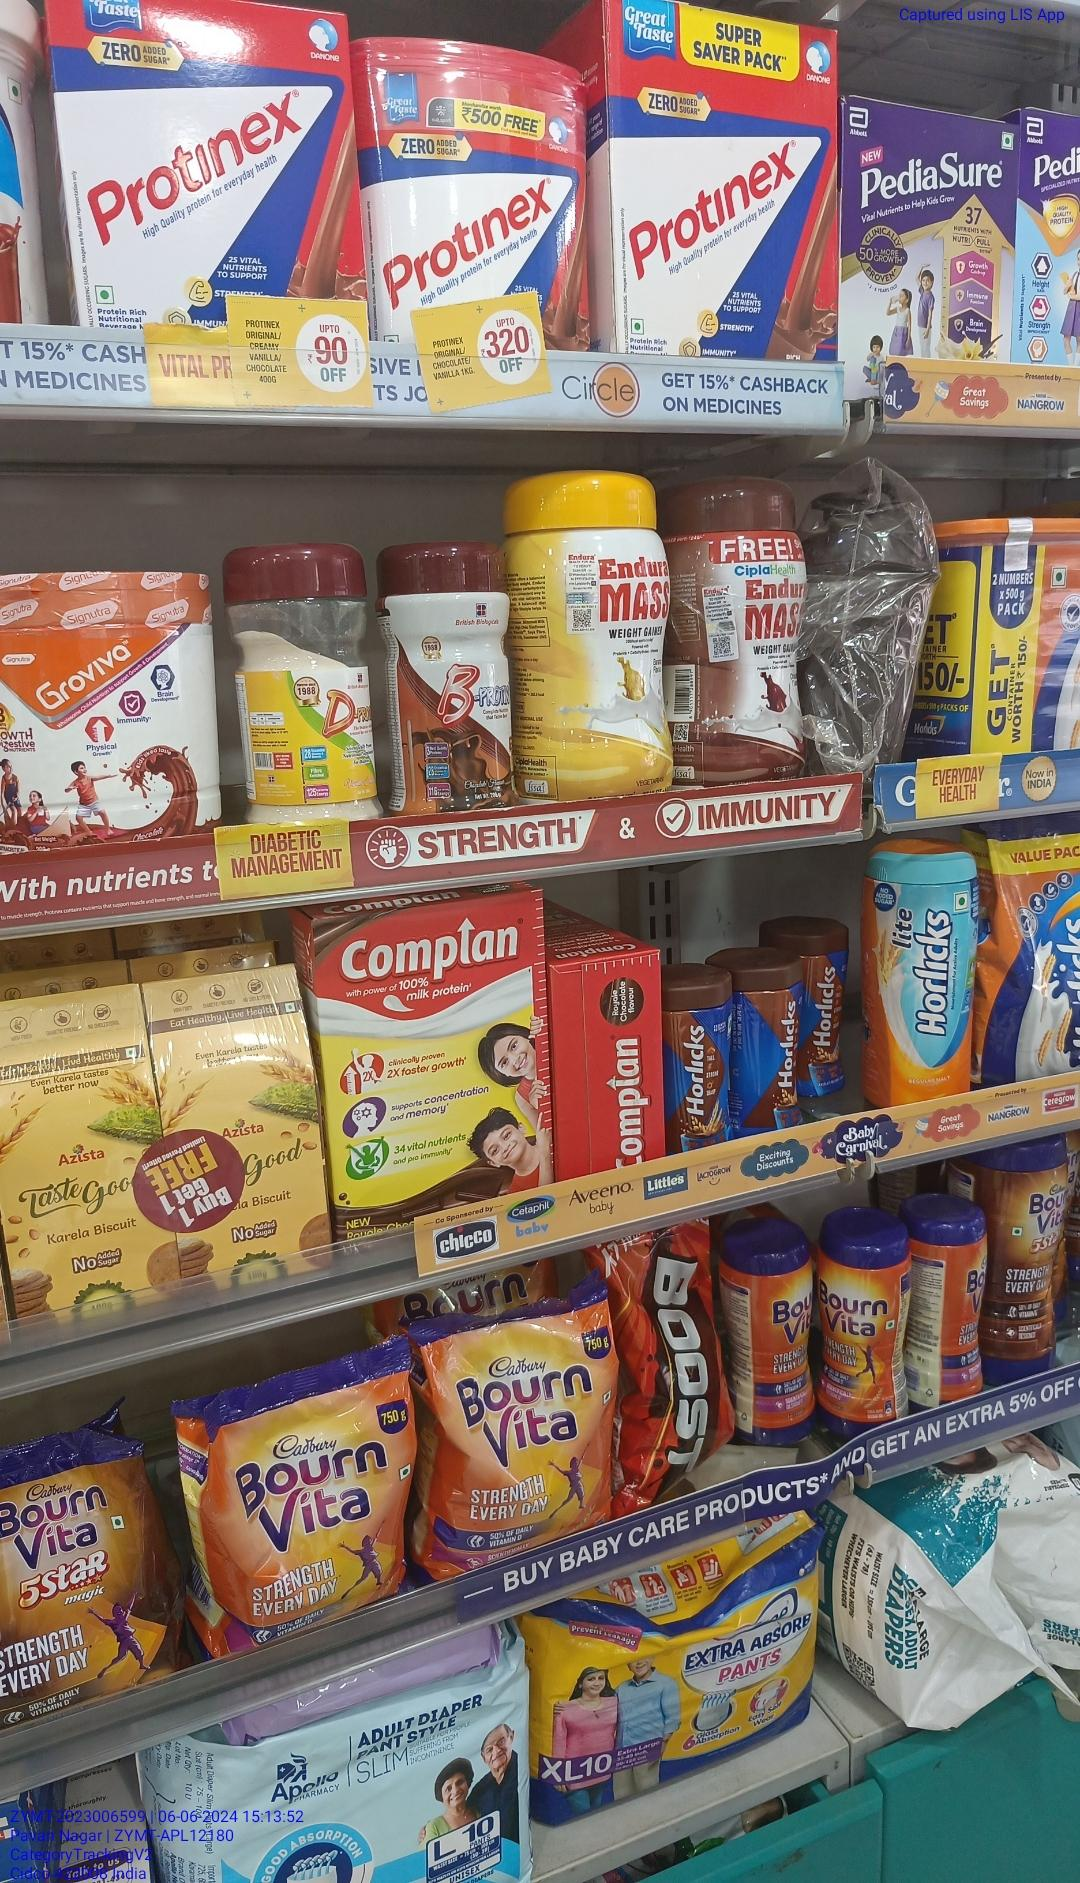BOURN_VITA_500_G_JAR: (820, 1204, 898, 1436), (749, 1226, 815, 1442)
BOURN_VITA_750_G_POUCH: (206, 1370, 411, 1632), (427, 1287, 617, 1557)
BOURN_VITA_FIVE_STAR_MAGIC_500_G_POUCH: (0, 1432, 185, 1693)
HORLICKS_LITE_REGULAR_MALT_500_GM_JAR: (861, 834, 973, 1108)
HORLICK_CHOCOLATE_200_G_JAR: (733, 948, 801, 1128), (664, 962, 728, 1146), (805, 918, 850, 1102)
PEDIASURE_VANILLA_500_G_PACK: (842, 102, 1015, 360)
PROTINEX_CHOCOLATE_400_G_JAR: (365, 38, 590, 318)
